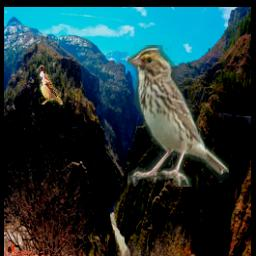Sparrow: (128, 46, 230, 188), (36, 65, 63, 106)
